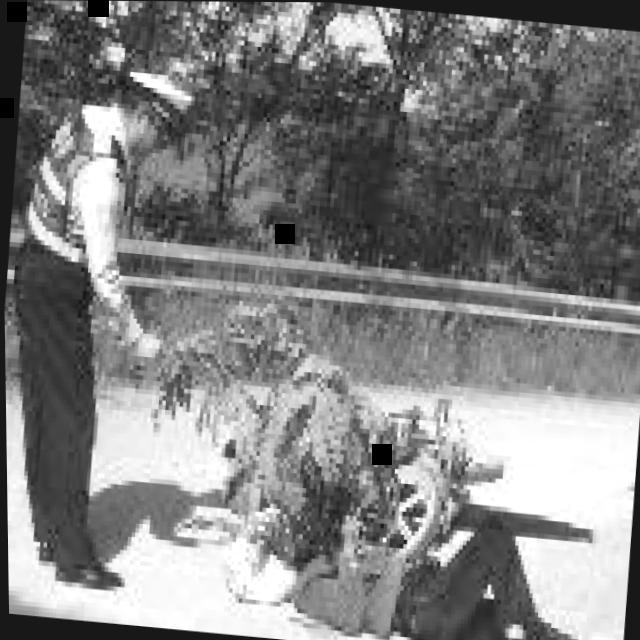Fall-Detected: (224, 467, 632, 640)
